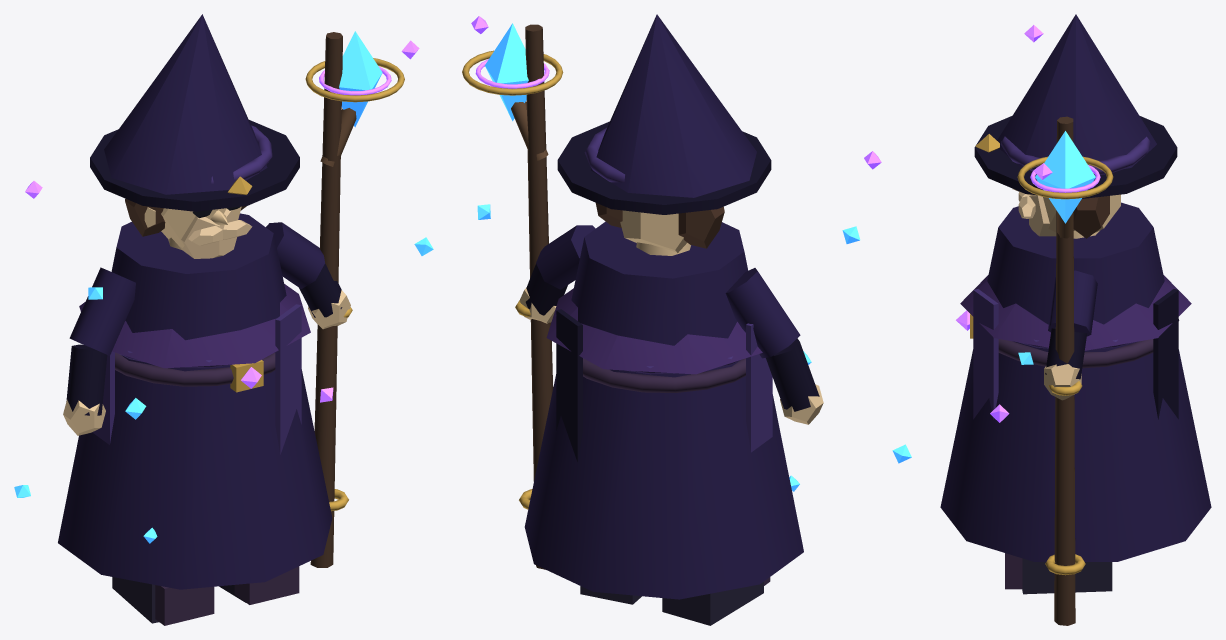
The model's file is asset.glb.
3 renders of one model, left to right at view 1: azimuth 30°, elevation 25°; view 2: azimuth 150°, elevation 25°; view 3: azimuth 270°, elevation 25°, orthographic. The views are drawn at different scales.
Visible parts, largest first — view 1: Wizard_Robe, Wizard_Hat_Cone, Wizard_Staff, Wizard_Shoulder_Cape, Wizard_Hat_Brim, Left_Upper_Arm, Robe_Panel_1, Robe_Belt, Right_Upper_Arm, Left_Forearm, Left_Boot_Toe, Staff_Magic_Crystal (+13 smaller); view 2: Wizard_Robe, Wizard_Hat_Cone, Wizard_Staff, Wizard_Shoulder_Cape, Wizard_Hat_Brim, Left_Upper_Arm, Robe_Panel_2, Robe_Belt, Robe_Panel_3, Left_Forearm, Left_Boot, Right_Upper_Arm (+7 smaller); view 3: Wizard_Robe, Wizard_Hat_Cone, Wizard_Staff, Wizard_Shoulder_Cape, Wizard_Hat_Brim, Robe_Panel_2, Robe_Panel_1, Staff_Magic_Crystal, Right_Boot, Robe_Belt, Right_Upper_Arm, Hat_Band (+9 smaller).
Boxes of the visible parts, <box> form: Wizard_Robe: <box>58,213,332,589</box>; Wizard_Hat_Cone: <box>104,14,267,194</box>; Wizard_Staff: <box>310,32,342,567</box>; Wizard_Shoulder_Cape: <box>79,284,310,368</box>; Wizard_Hat_Brim: <box>90,120,299,211</box>; Left_Upper_Arm: <box>69,267,135,355</box>; Robe_Panel_1: <box>275,304,301,454</box>; Robe_Belt: <box>115,352,275,386</box>; Right_Upper_Arm: <box>266,222,324,288</box>; Left_Forearm: <box>66,344,107,415</box>; Left_Boot_Toe: <box>155,585,214,625</box>; Staff_Magic_Crystal: <box>339,31,382,127</box>; Wizard_Robe: <box>524,221,803,599</box>; Wizard_Hat_Cone: <box>591,14,756,197</box>; Wizard_Staff: <box>525,24,553,569</box>; Wizard_Shoulder_Cape: <box>546,288,762,374</box>; Wizard_Hat_Brim: <box>557,121,771,214</box>; Left_Upper_Arm: <box>725,268,800,358</box>; Robe_Panel_2: <box>556,309,582,461</box>; Robe_Belt: <box>583,358,745,392</box>; Robe_Panel_3: <box>746,323,772,452</box>; Left_Forearm: <box>766,338,819,411</box>; Left_Boot: <box>662,582,763,625</box>; Right_Upper_Arm: <box>536,225,595,289</box>; Wizard_Robe: <box>940,202,1211,561</box>; Wizard_Hat_Cone: <box>997,14,1156,168</box>; Wizard_Staff: <box>1054,116,1075,625</box>; Wizard_Shoulder_Cape: <box>960,275,1191,350</box>; Wizard_Hat_Brim: <box>974,115,1177,198</box>; Robe_Panel_2: <box>1153,289,1178,419</box>; Robe_Panel_1: <box>973,289,998,419</box>; Staff_Magic_Crystal: <box>1035,131,1095,223</box>; Right_Boot: <box>1022,558,1112,594</box>; Robe_Belt: <box>998,319,1179,368</box>; Right_Upper_Arm: <box>1048,270,1097,336</box>; Hat_Band: <box>1000,136,1150,175</box>.
Size of the model in its own units: 3.57 by 4.64 by 2.06.
